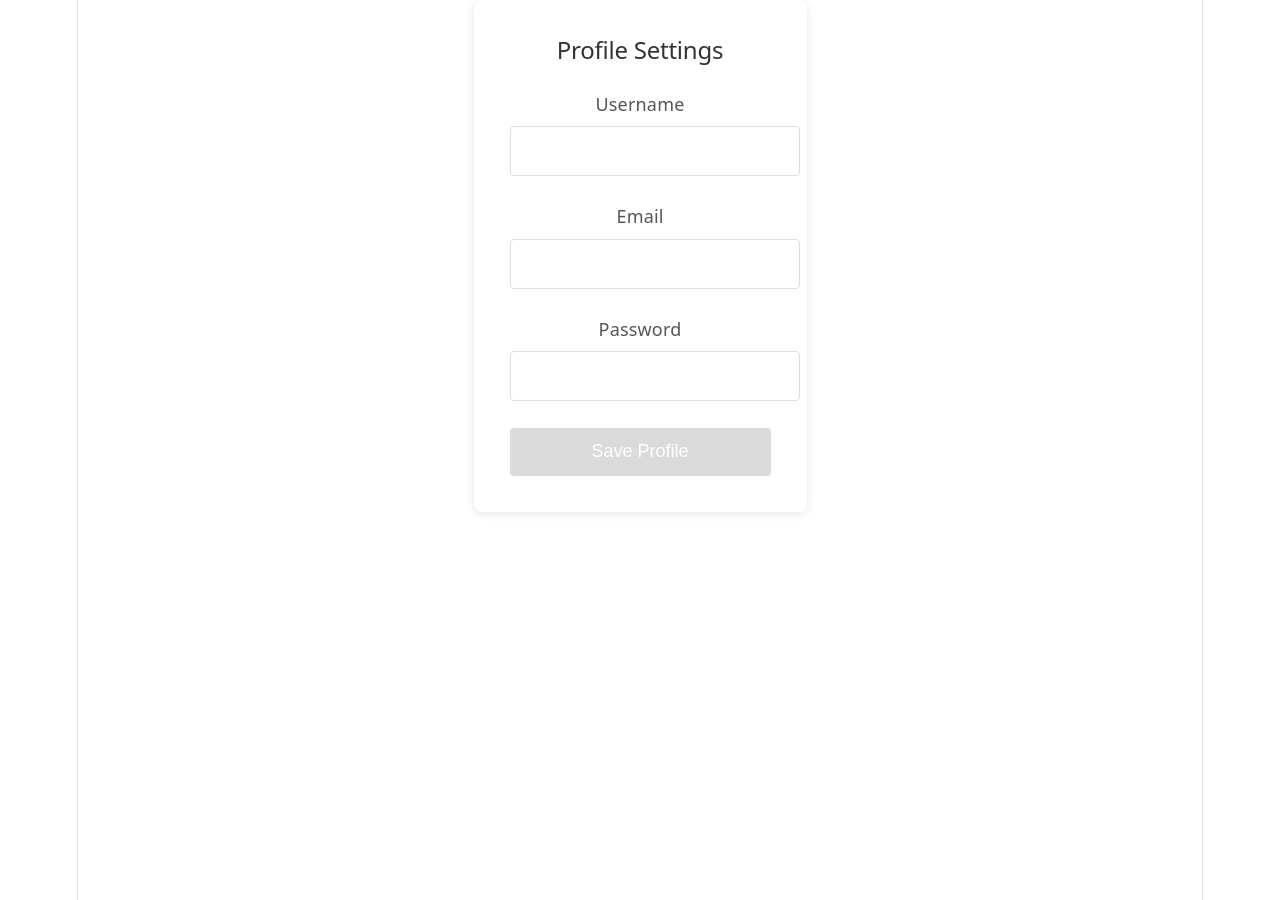
Test: ProfileSettingsForm — valid submission › shows the success status and resets the form on valid submit
This screenshot has width=1280, height=900.
In the field labelled "Username": (654, 151) [510,126,800,176], type "john_doe"
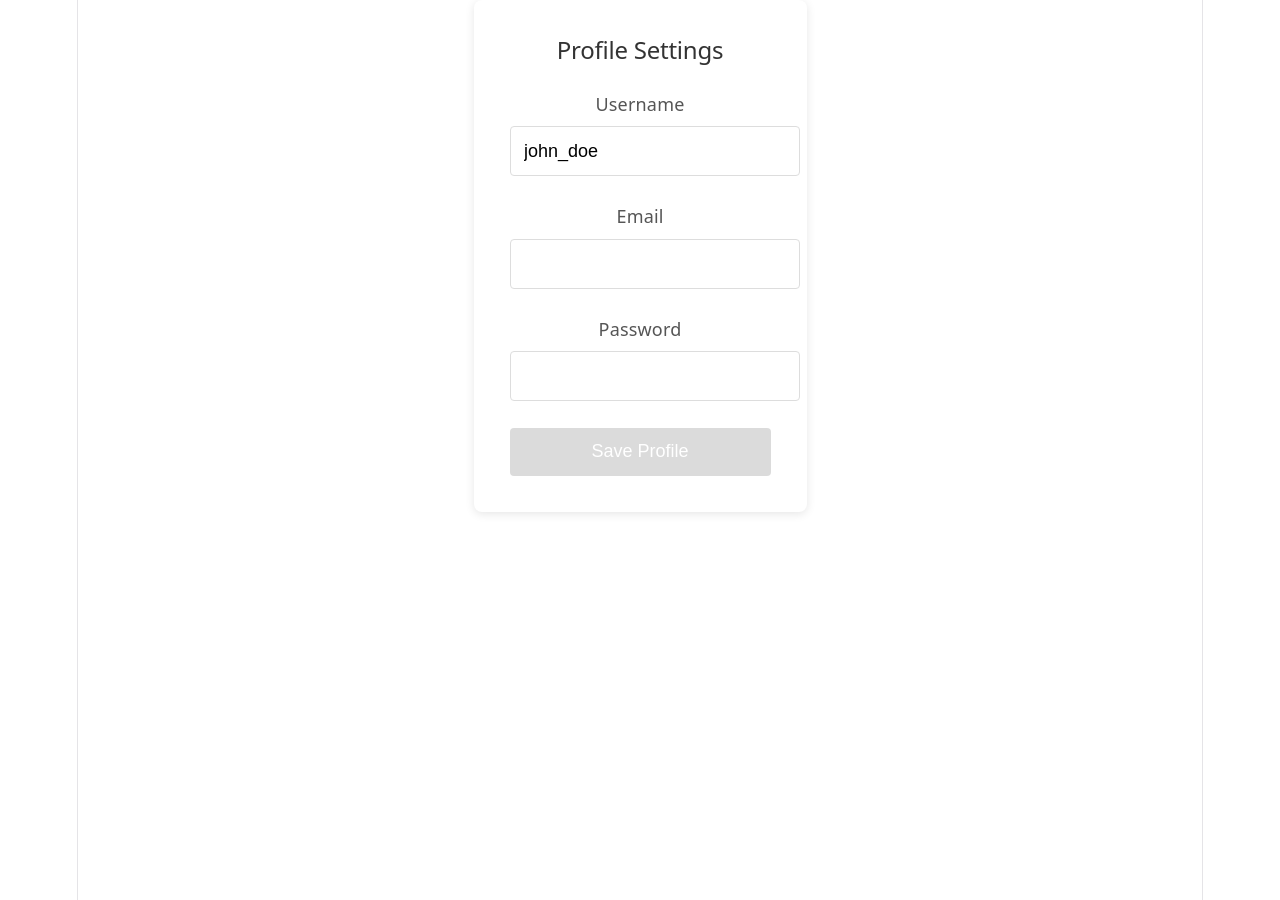
In the field labelled "Email": (654, 264) [510,238,800,288], type "john@example.com"
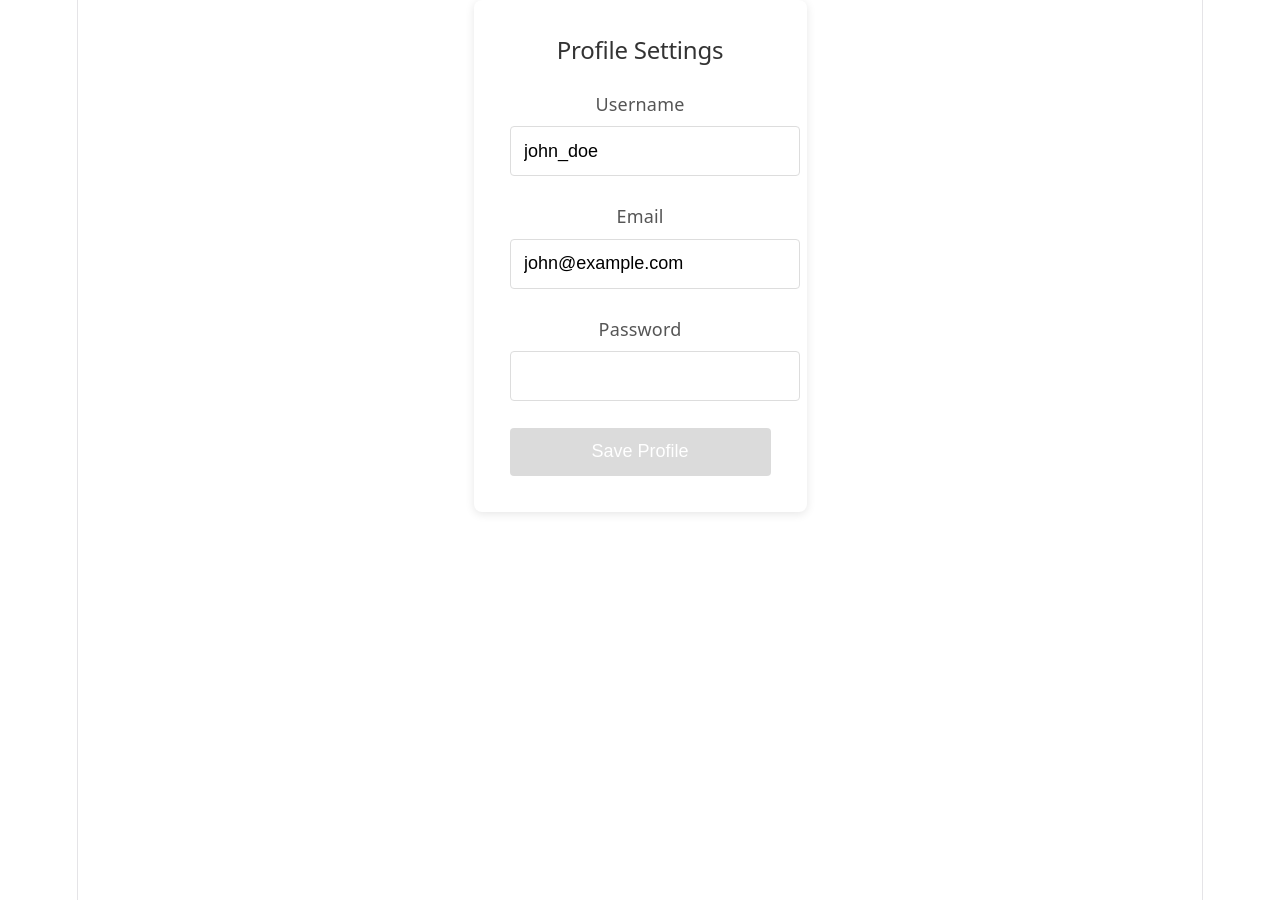
In the password field labelled "Password": (654, 376) [510,351,800,401], type "password123"
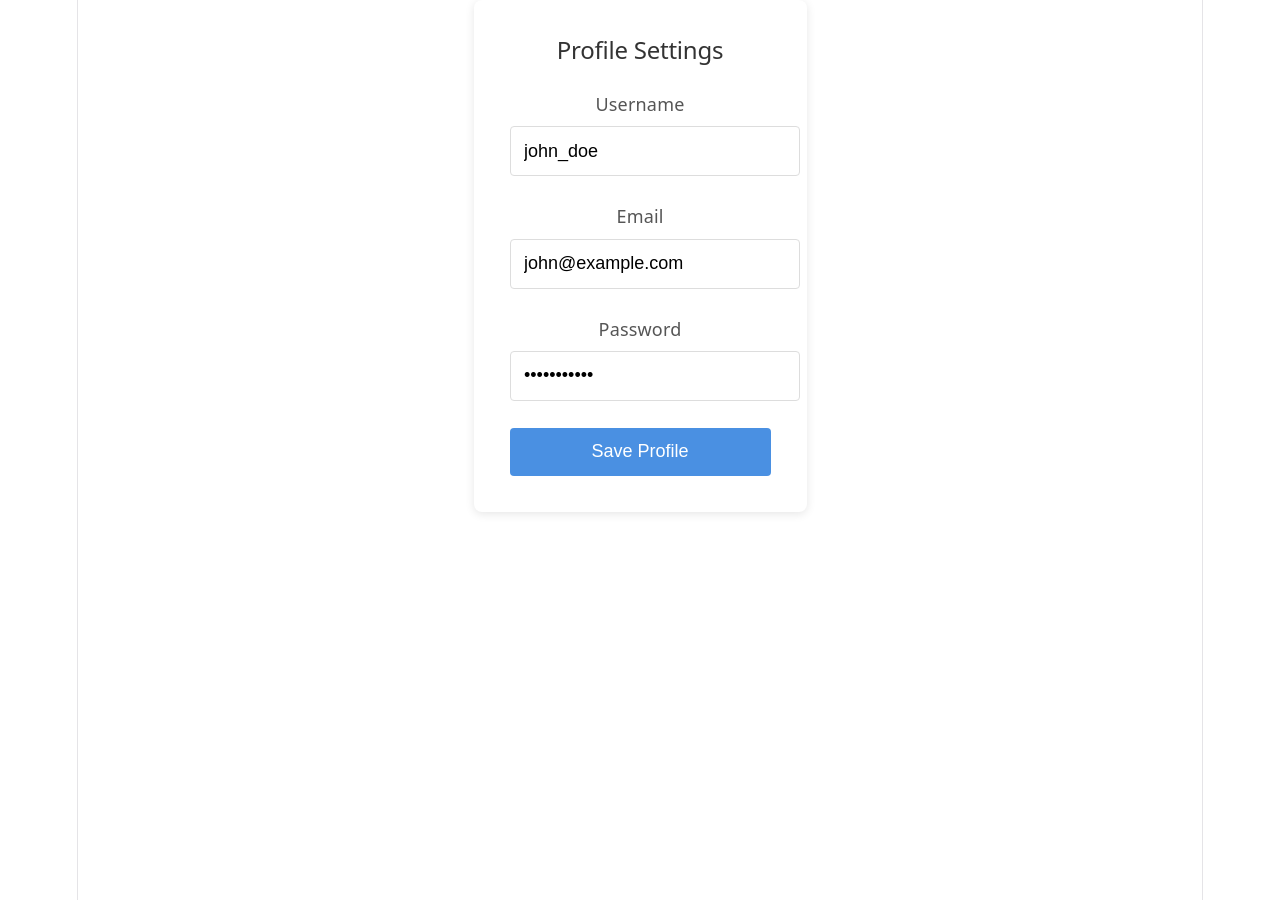
Check: the button "Save Profile" is enabled
Click the button "Save Profile": (640, 452) [510,428,770,476]
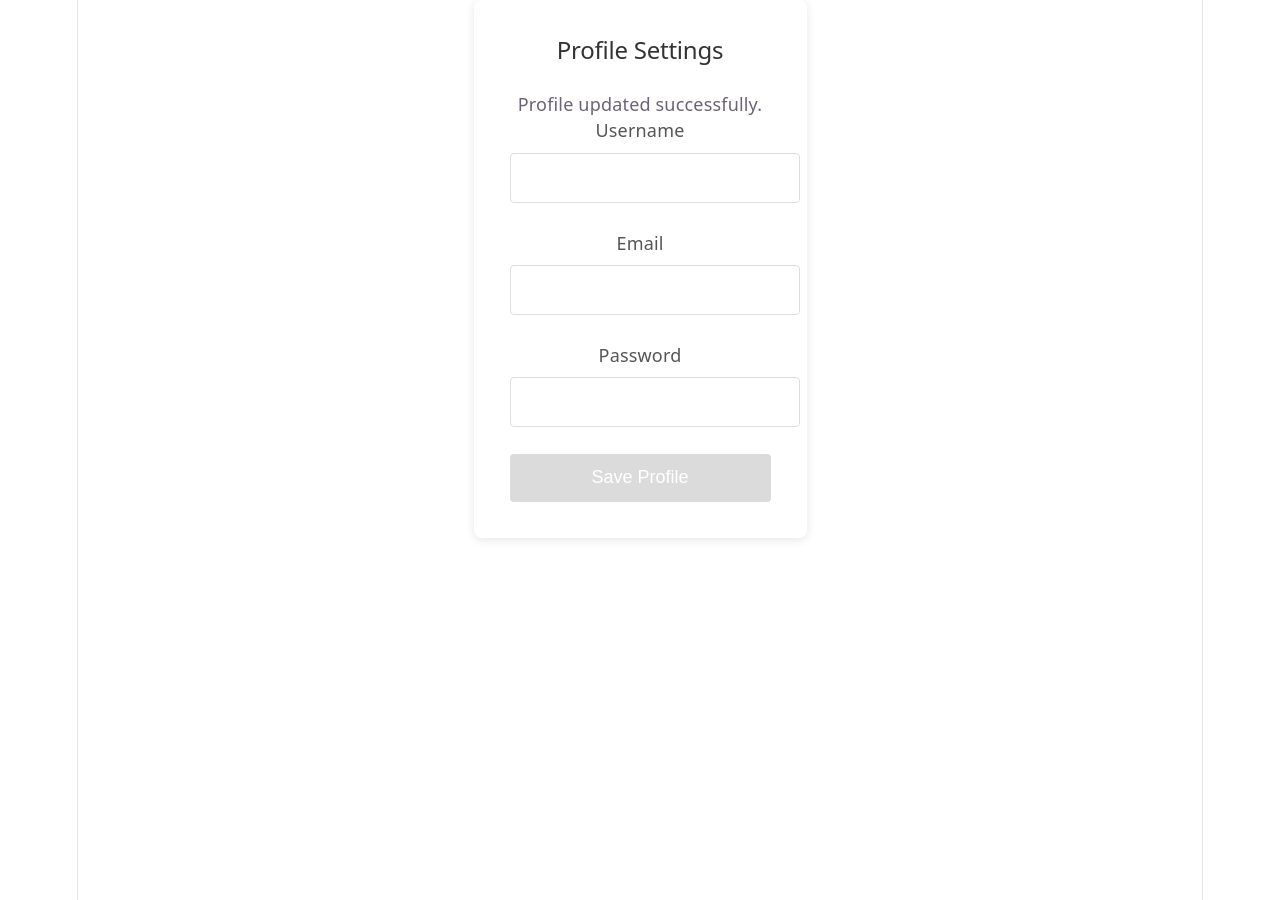
Check: the text "Profile updated successfully." is shown, box [510,91,770,117]
Check: the field labelled "Username" is empty, box [510,152,800,202]
Check: the field labelled "Email" is empty, box [510,265,800,315]
